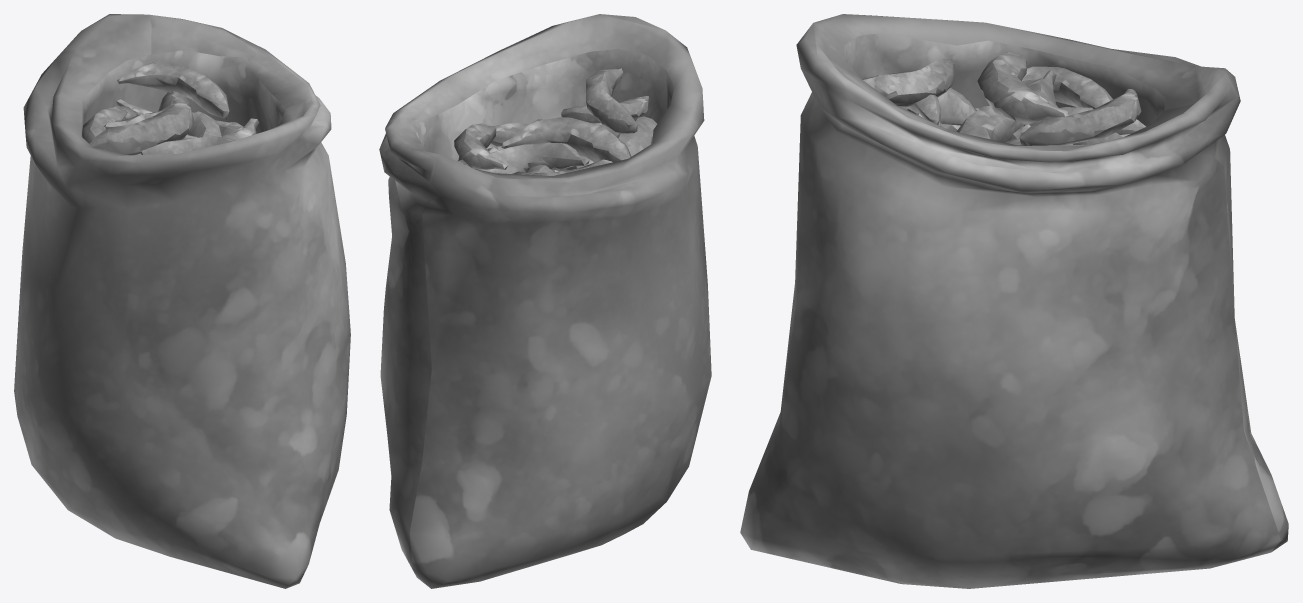
Rendered from SM_Sack_Banana_Ripe_01a.fbx.
3 views of the same model, side by side, from view 1: azimuth 30°, elevation 25°; view 2: azimuth 150°, elevation 25°; view 3: azimuth 270°, elevation 25° (orthographic). The views are drawn at different scales.
Visible parts, largest first — view 1: SM_Sack_Banana_Ripe_01a_LOD0; view 2: SM_Sack_Banana_Ripe_01a_LOD0; view 3: SM_Sack_Banana_Ripe_01a_LOD0.
Part boxes in pixels (x1,y1,x2,y2): SM_Sack_Banana_Ripe_01a_LOD0: (14, 14, 350, 588); SM_Sack_Banana_Ripe_01a_LOD0: (379, 14, 711, 588); SM_Sack_Banana_Ripe_01a_LOD0: (740, 14, 1288, 588).
Bounding box in the file's own units: 65.83 × 94.51 × 97.29.
